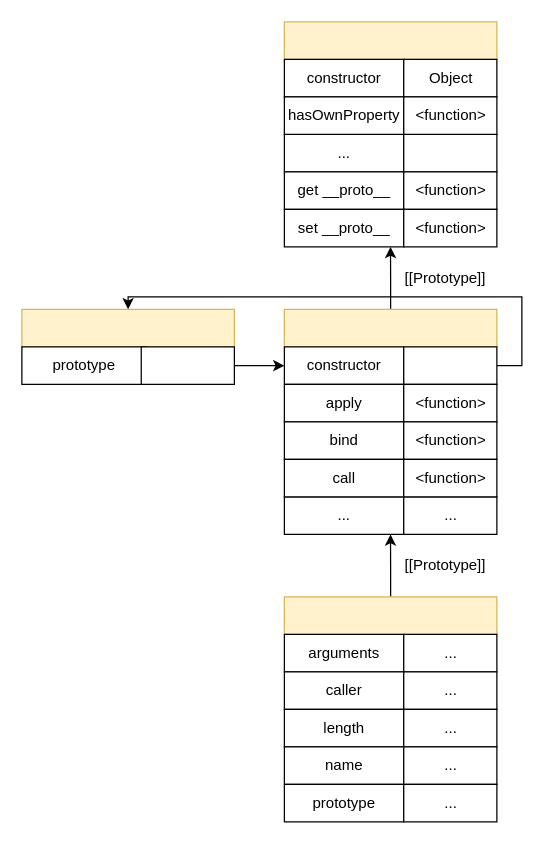
Image size: 554x844. Some labels were removed from this diagram. Each missing label, with the centre of its shape:
Function Object: the point at 390,615
Function 생성자 함수: the point at 127,327
Function.prototype: the point at 390,327
Object.prototype: the point at 390,40
